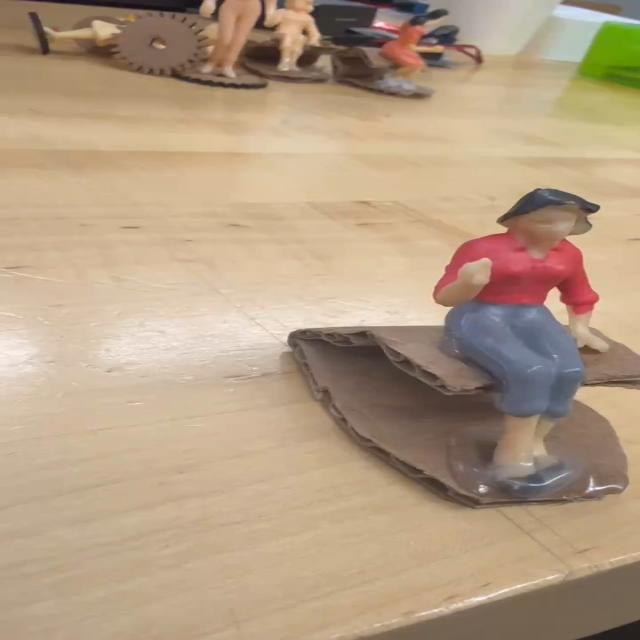Authorized: (406, 167, 640, 500)
